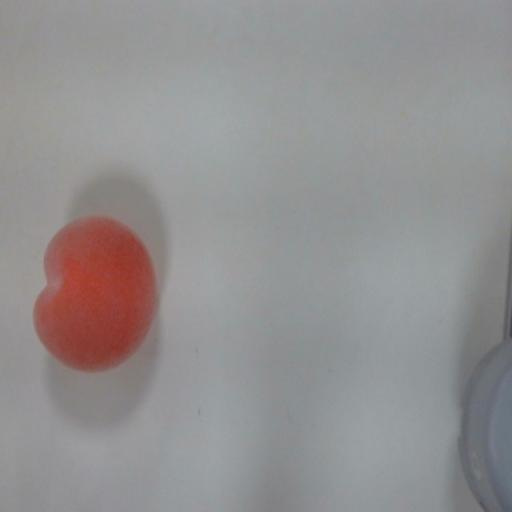Ripe: (32, 214, 159, 376)
